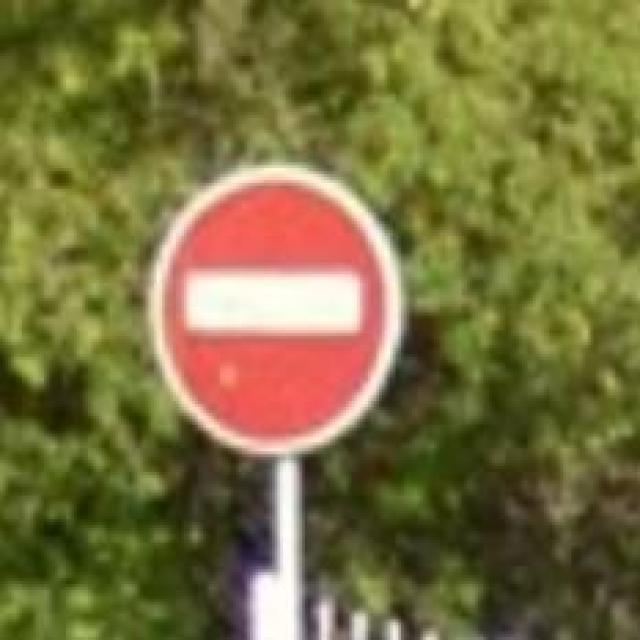Zakaz wjazdu: (148, 162, 406, 457)
